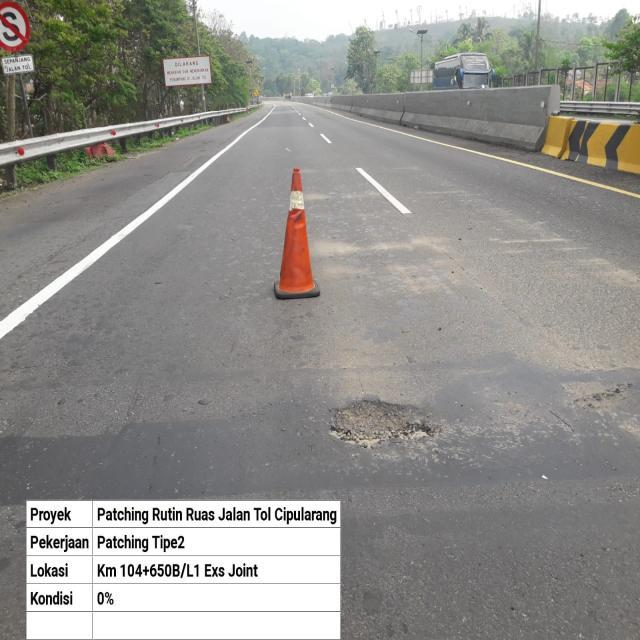Buraco: (322, 396, 447, 454)
